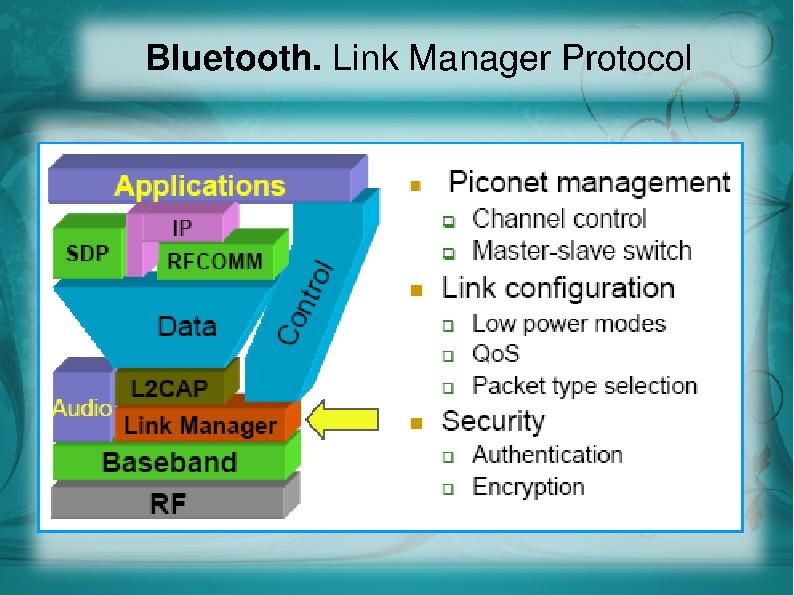paragraph: (388, 142, 766, 526)
title: (143, 32, 696, 84)
